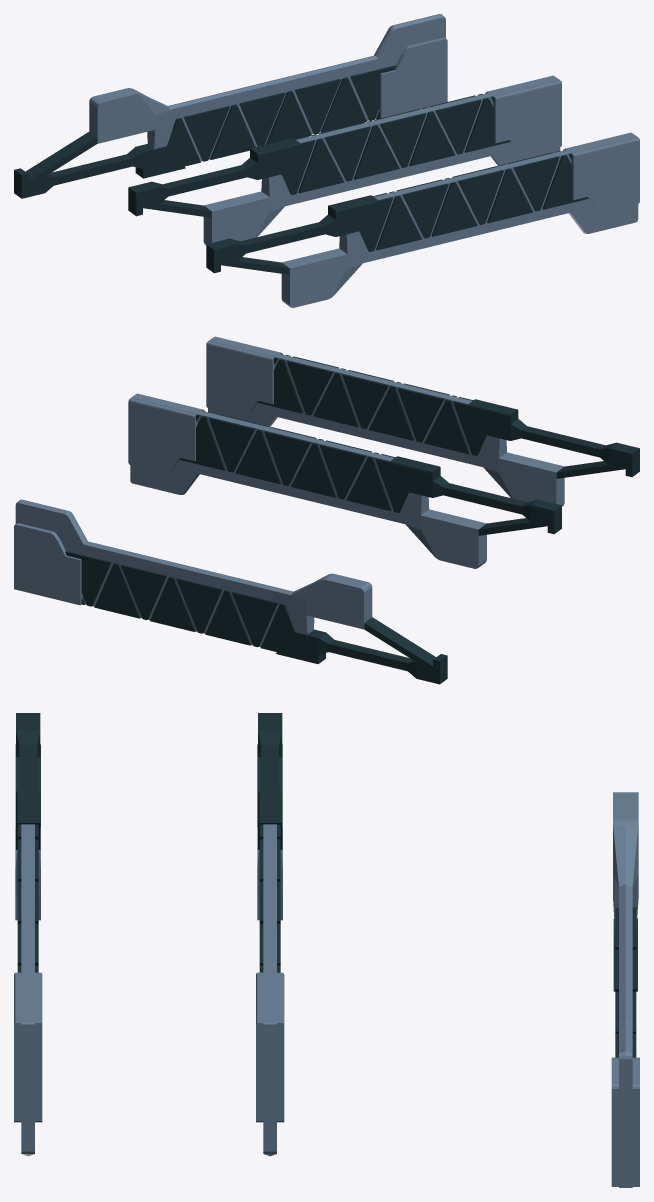
Rendered from sword (1).fbx.
The picture shows the model from 3 angles, top to bottom: view 1: azimuth 30°, elevation 25°; view 2: azimuth 150°, elevation 25°; view 3: azimuth 270°, elevation 25°; orthographic projection. The views are drawn at different scales.
Parts seen in each view (by area): view 1: Striker Sword, S S S 1, Striker Sword Parent, Triangle.001, Triangle, Hilt, Top Sword Part; view 2: S S S 1, Striker Sword, Striker Sword Parent, Triangle.001, Triangle, Hilt, Top Sword Part; view 3: S S S 1, Striker Sword, Striker Sword Parent, Top Sword Part, Triangle.001.
Boxes of the visible parts, x1,y1,x2,y2 form: Striker Sword: (206,132,639,307); S S S 1: (128,75,561,244); Striker Sword Parent: (89,14,445,161); Triangle.001: (183,65,396,161); Triangle: (167,77,379,166); Hilt: (14,131,185,198); Top Sword Part: (379,37,447,118); S S S 1: (128,393,561,568); Striker Sword: (206,336,639,506); Striker Sword Parent: (15,499,372,647); Triangle.001: (65,551,277,647); Triangle: (81,563,294,651); Hilt: (276,617,447,684); Top Sword Part: (14,523,82,605); S S S 1: (256,713,284,1156); Striker Sword: (14,713,42,1156); Striker Sword Parent: (613,792,638,1187); Top Sword Part: (611,1057,639,1186); Triangle.001: (615,913,636,1057).
Size of the model in its own units: 937 by 229 by 768.
